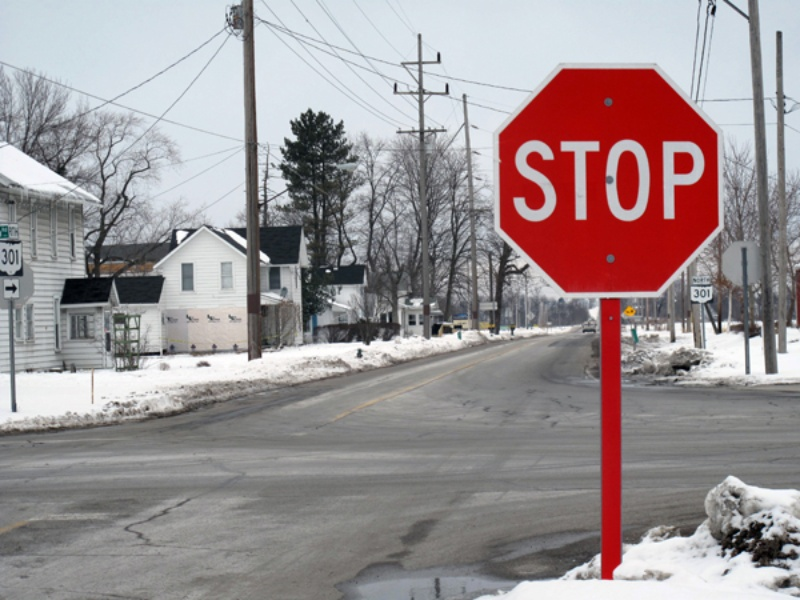stop sign: (486, 57, 728, 303)
